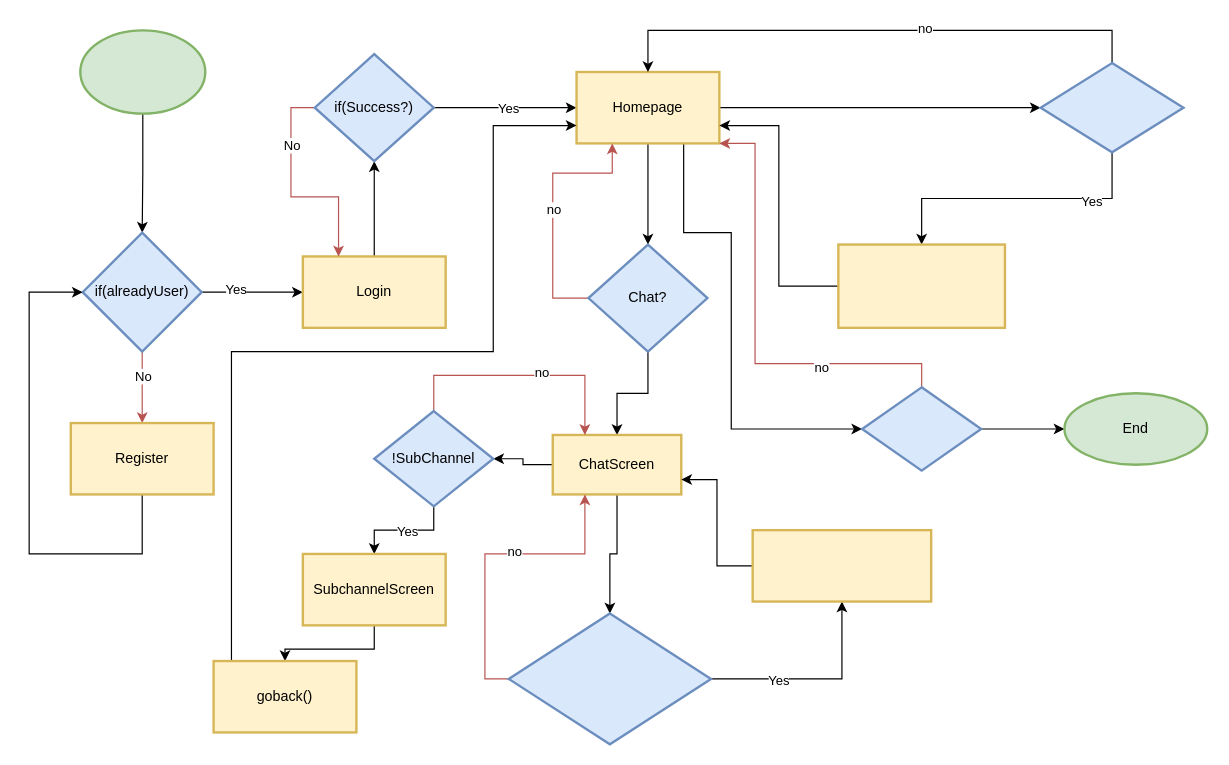
This 1229x765 diagram has some shape labels left out. Each missing label, with the box of its shape:
AddFriend(username): (837, 243, 1006, 328)
AddFriends?: (1039, 61, 1184, 153)
CreateSubChannel(): (751, 528, 932, 602)
CreateSubChatscreen?: (507, 612, 712, 745)
exit?: (860, 386, 982, 471)
start: (79, 29, 206, 114)
